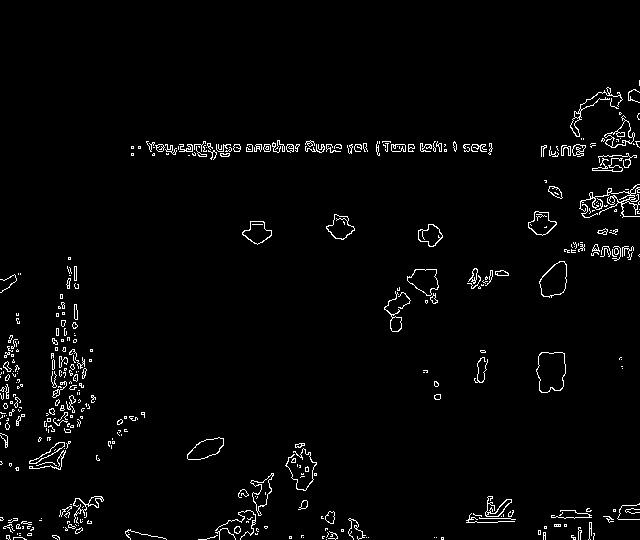down: (320, 206, 362, 249), (236, 213, 276, 252), (522, 205, 561, 244)
right: (409, 217, 448, 255)
